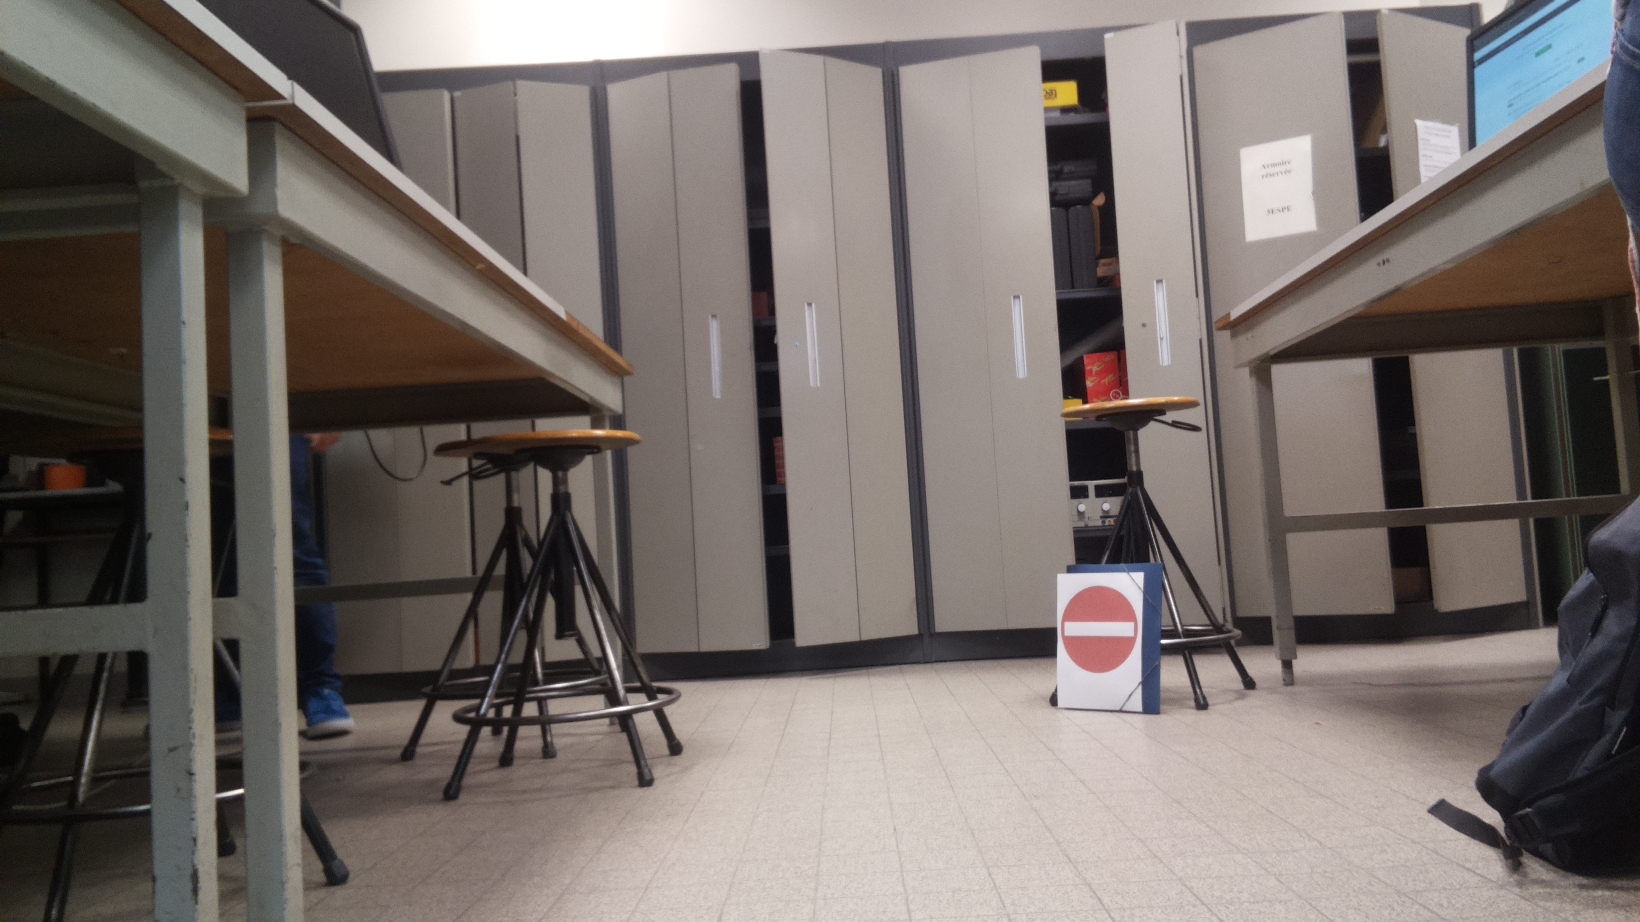prohibited: (1060, 584, 1139, 675)
